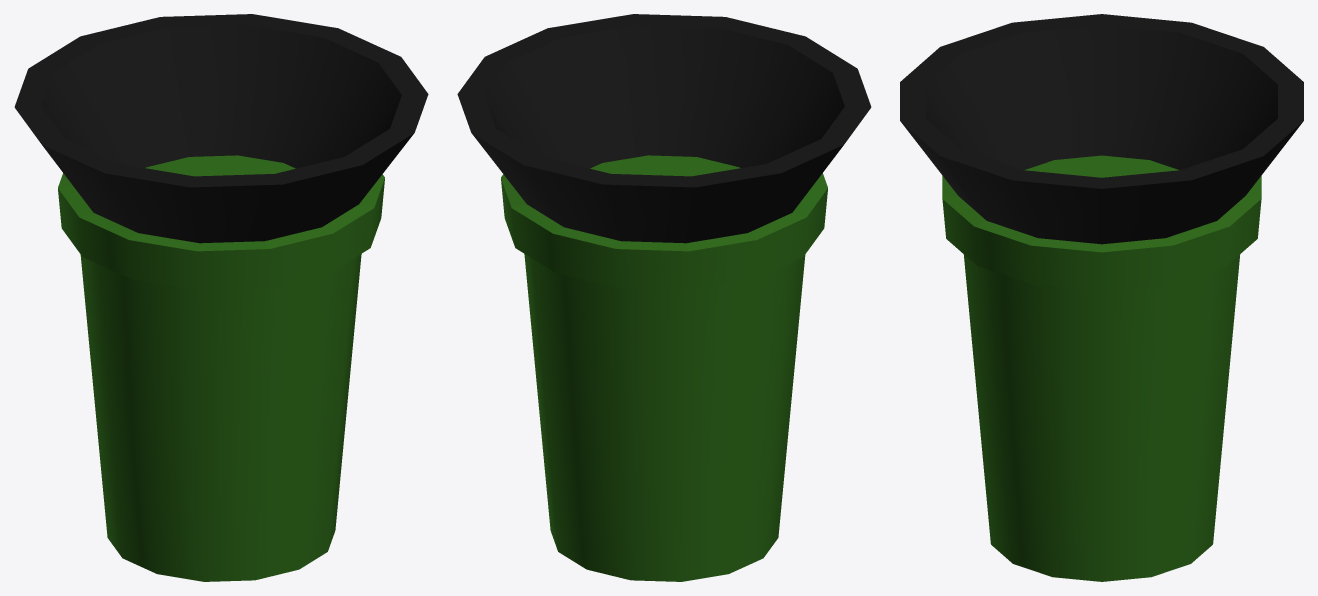
Rendered from Bin2.fbx.
3 renders of one model, left to right at view 1: azimuth 30°, elevation 25°; view 2: azimuth 150°, elevation 25°; view 3: azimuth 270°, elevation 25°, orthographic.
Parts seen in each view (by area): view 1: Bin2; view 2: Bin2; view 3: Bin2.
Part boxes in pixels (box(x1,y1,x2,y2)): Bin2: box(14, 14, 428, 581); Bin2: box(457, 14, 871, 581); Bin2: box(900, 14, 1303, 581).
Size of the model in its own units: 83.35 by 96.01 by 81.26.
